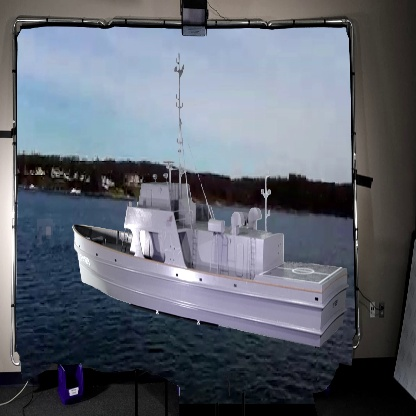YP689: (71, 54, 350, 351)
